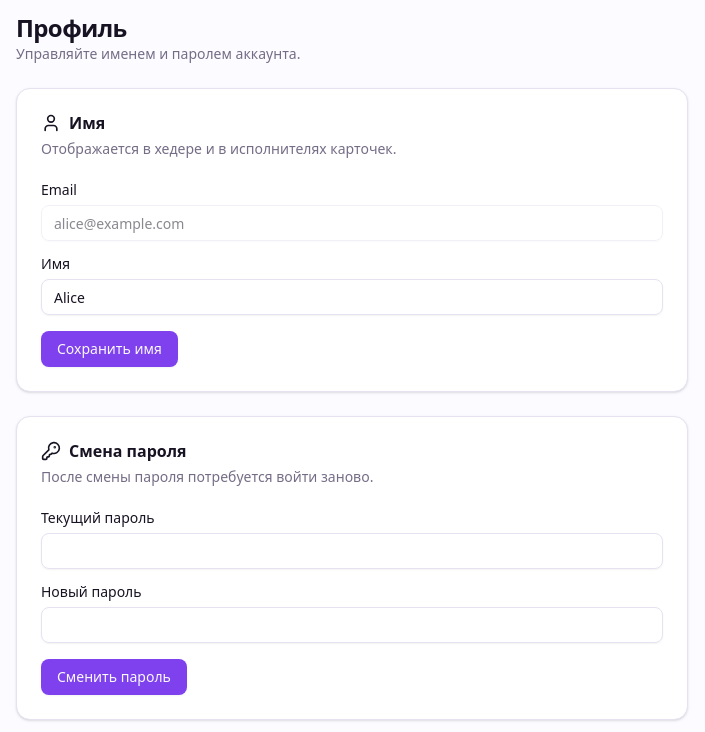
Test: ProfilePage › validates the password fields before submitting
The image size is (705, 732).
Type "x" into the password field labelled "Текущий пароль" at (352, 551), box left=41, top=533, right=663, bottom=569
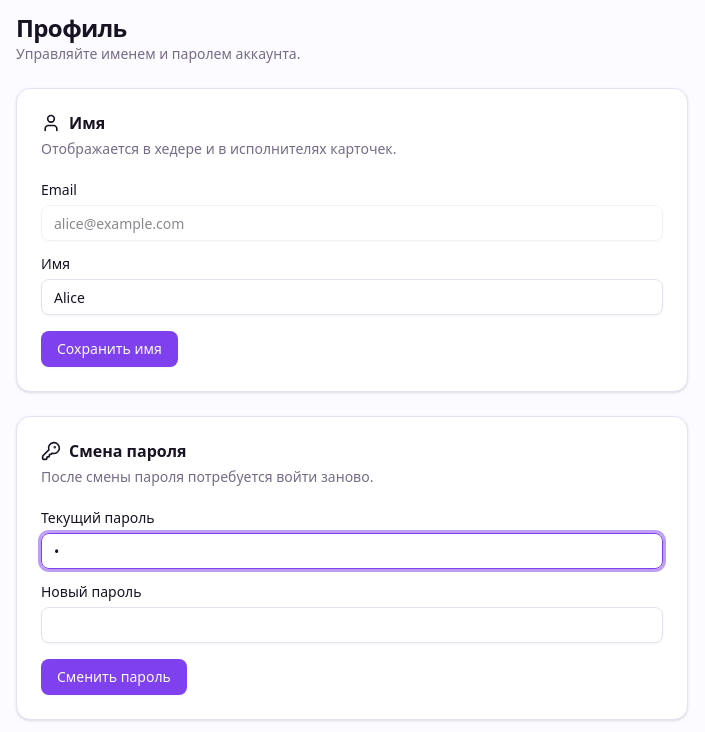
Type "x" into the password field labelled "Новый пароль" at (352, 625), box left=41, top=607, right=663, bottom=643
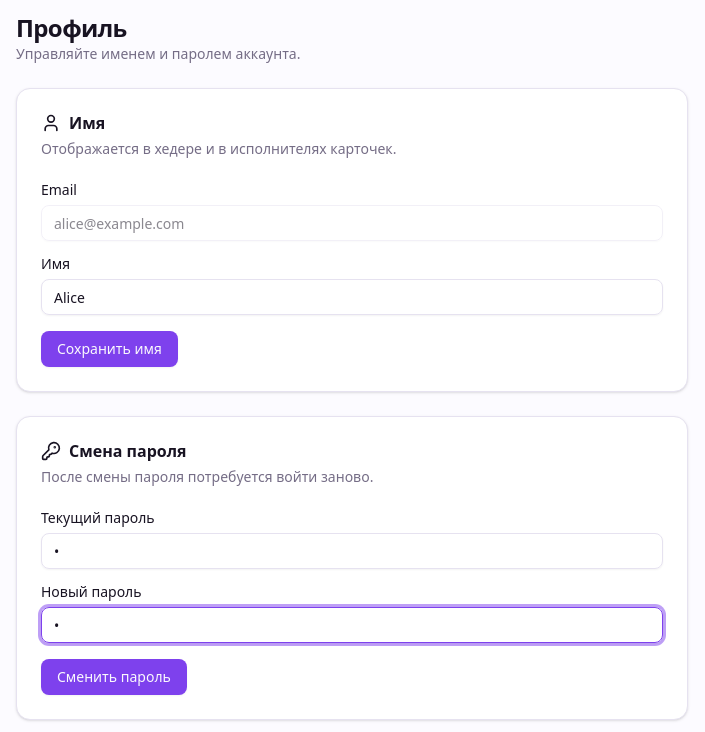
Click the button "Сменить пароль" at (114, 677), box left=41, top=659, right=187, bottom=695
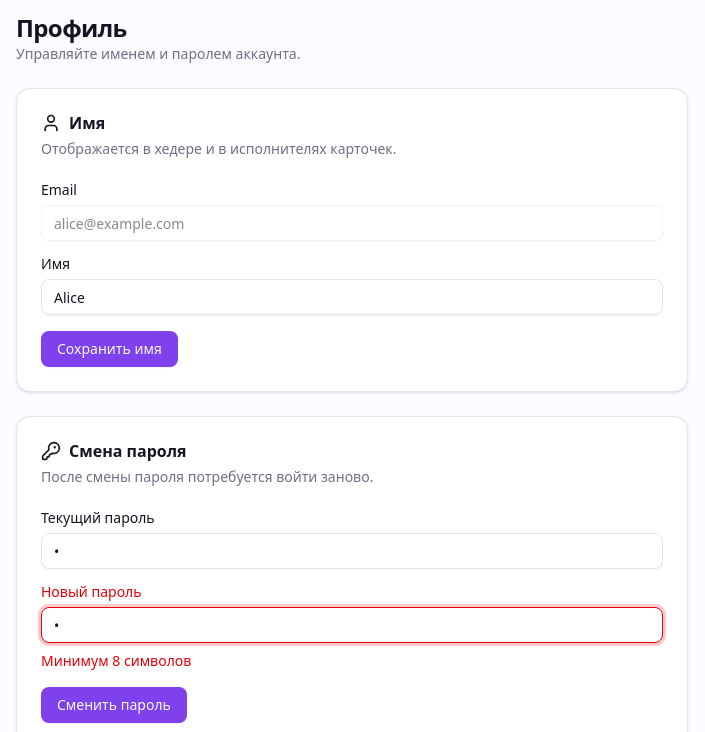
Result: the text "Минимум 8 символов" is shown at left=41, top=651, right=191, bottom=670
